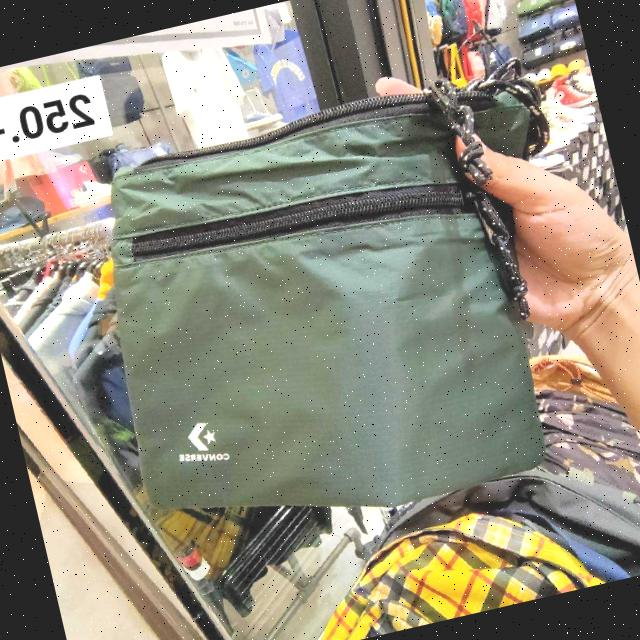Handbag: (67, 63, 564, 556)
